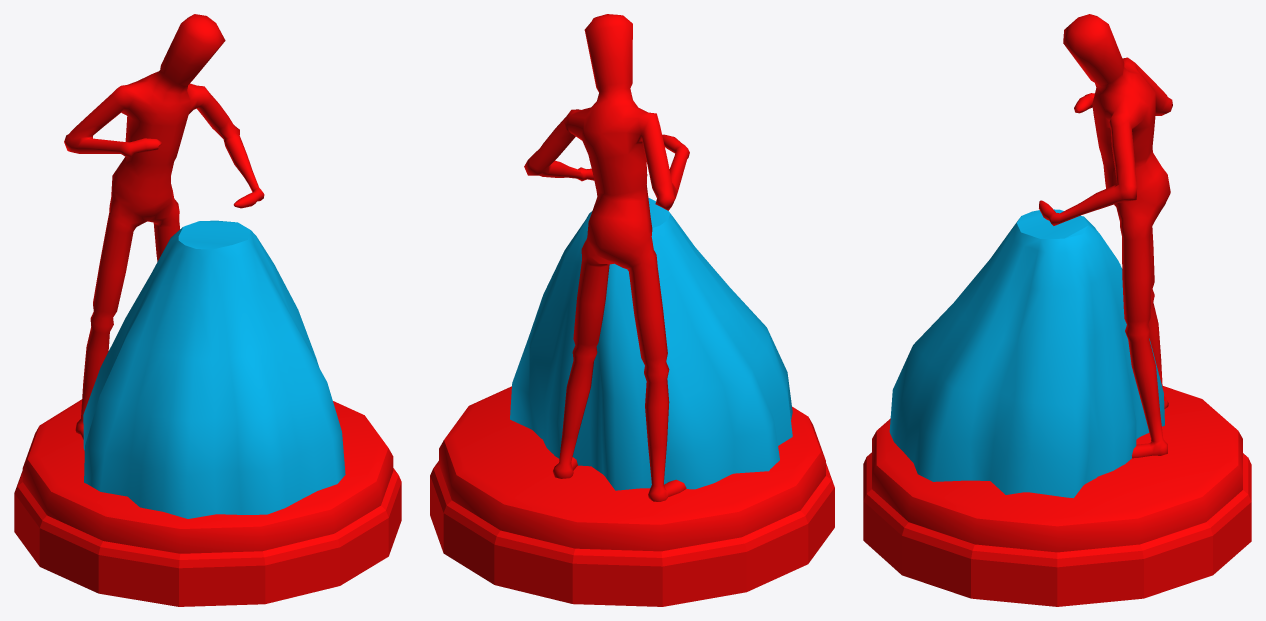
The model's file is FIGURINE_PART1_M.FBX.
3 views of the same model, side by side, from view 1: azimuth 30°, elevation 25°; view 2: azimuth 150°, elevation 25°; view 3: azimuth 270°, elevation 25° (orthographic). The views are drawn at different scales.
Parts seen in each view (by area): view 1: Cylinder006; view 2: Cylinder006; view 3: Cylinder006.
Boxes of the visible parts, bbox=[...] form: Cylinder006: bbox=[14, 14, 401, 606]; Cylinder006: bbox=[430, 14, 834, 606]; Cylinder006: bbox=[863, 14, 1251, 606].
Bounding box in the file's own units: 10.69 × 15.06 × 10.42.
